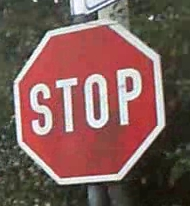stop: (10, 20, 163, 184)
